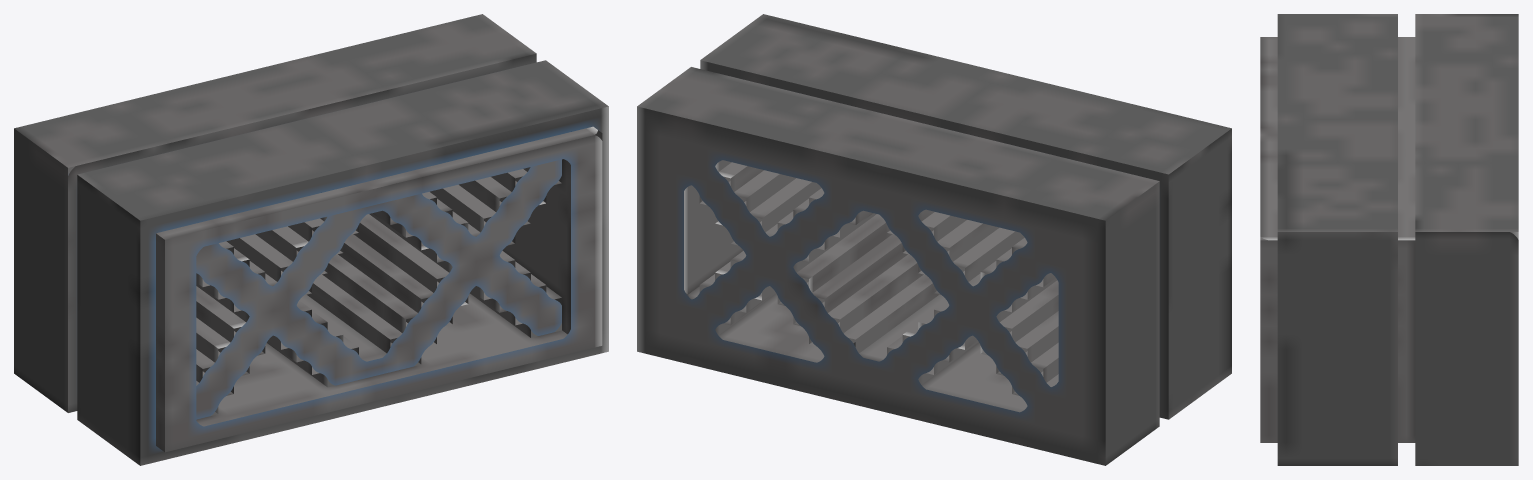
3 views of the same model, side by side, from view 1: azimuth 30°, elevation 25°; view 2: azimuth 150°, elevation 25°; view 3: azimuth 270°, elevation 25° (orthographic). The views are drawn at different scales.
Parts seen in each view (by area): view 1: block_typeA1; view 2: block_typeA1; view 3: block_typeA1.
Part boxes in pixels (x1,y1,x2,y2): block_typeA1: [14, 14, 608, 465]; block_typeA1: [637, 14, 1231, 465]; block_typeA1: [1260, 14, 1518, 465].
Bounding box in the file's own units: 0.2 × 0.1 × 0.1.
